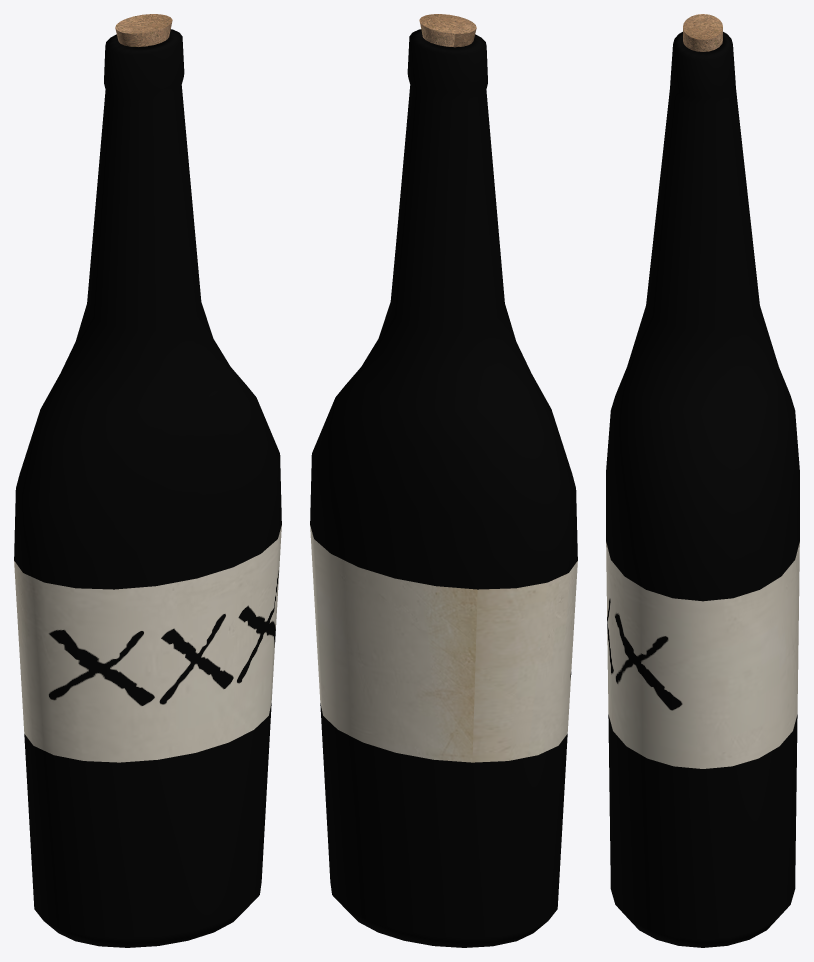
File: Maya_Bottle.fbx
3 renders of one model, left to right at view 1: azimuth 30°, elevation 25°; view 2: azimuth 150°, elevation 25°; view 3: azimuth 270°, elevation 25°, orthographic.
Visible parts, largest first — view 1: Bottle, Cork; view 2: Bottle, Cork; view 3: Bottle, Cork.
Boxes of the visible parts, <box> form: Bottle: <box>14,29,281,947</box>; Cork: <box>115,14,172,46</box>; Bottle: <box>310,29,577,947</box>; Cork: <box>419,14,476,47</box>; Bottle: <box>606,32,799,947</box>; Cork: <box>683,14,722,51</box>.
Bounding box in the file's own units: 2.93 × 9.97 × 2.
Materials: 3 (2 with a texture image).
